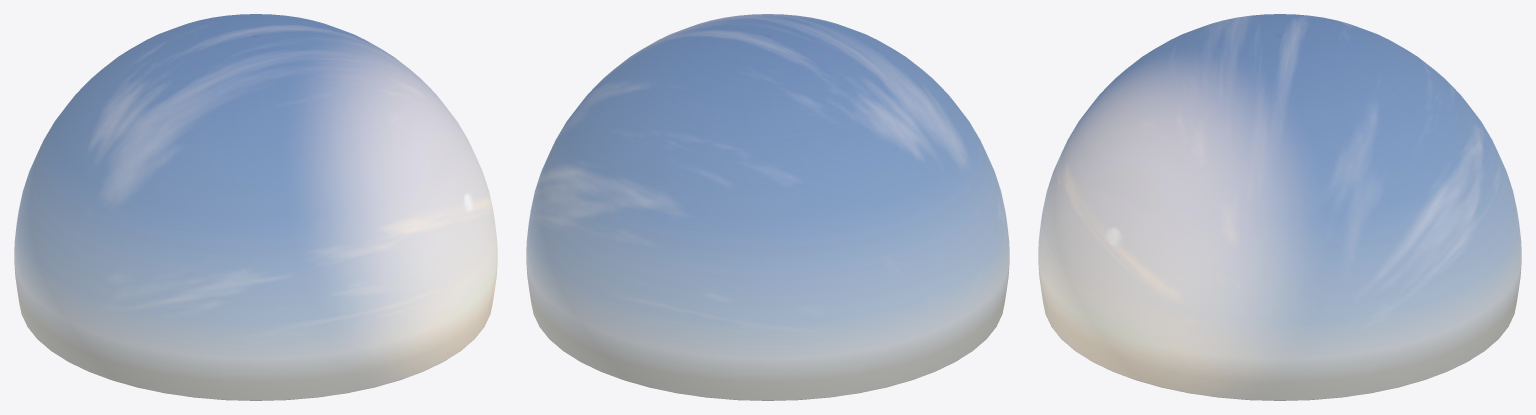
The model's file is ithaca_hall.gltf.
The picture shows the model from 3 angles, left to right: view 1: azimuth 30°, elevation 25°; view 2: azimuth 150°, elevation 25°; view 3: azimuth 270°, elevation 25°; orthographic projection.
Visible parts, largest first — view 1: SkyDome; view 2: SkyDome; view 3: SkyDome.
Boxes of the visible parts, x1,y1,x2,y2 form: SkyDome: (14, 14, 497, 400); SkyDome: (526, 14, 1009, 400); SkyDome: (1038, 14, 1521, 400).
Bounding box in the file's own units: 124 × 74.89 × 124.
31 materials, 31 textured.
